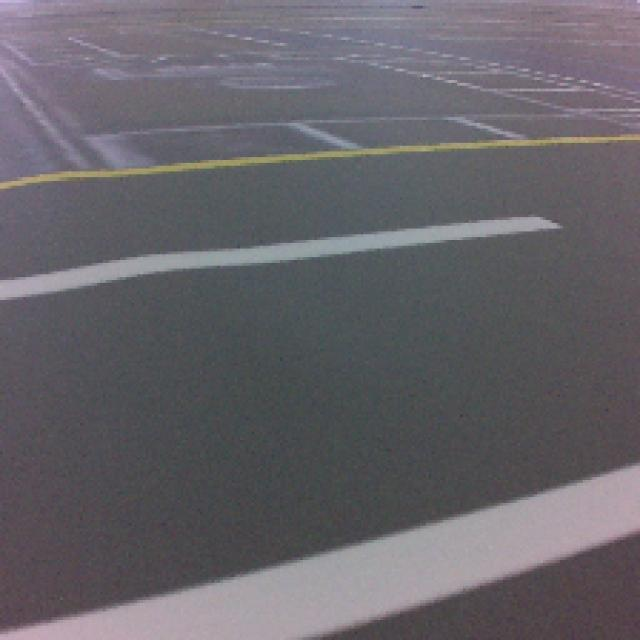Guard rail: (1, 471, 640, 637)
